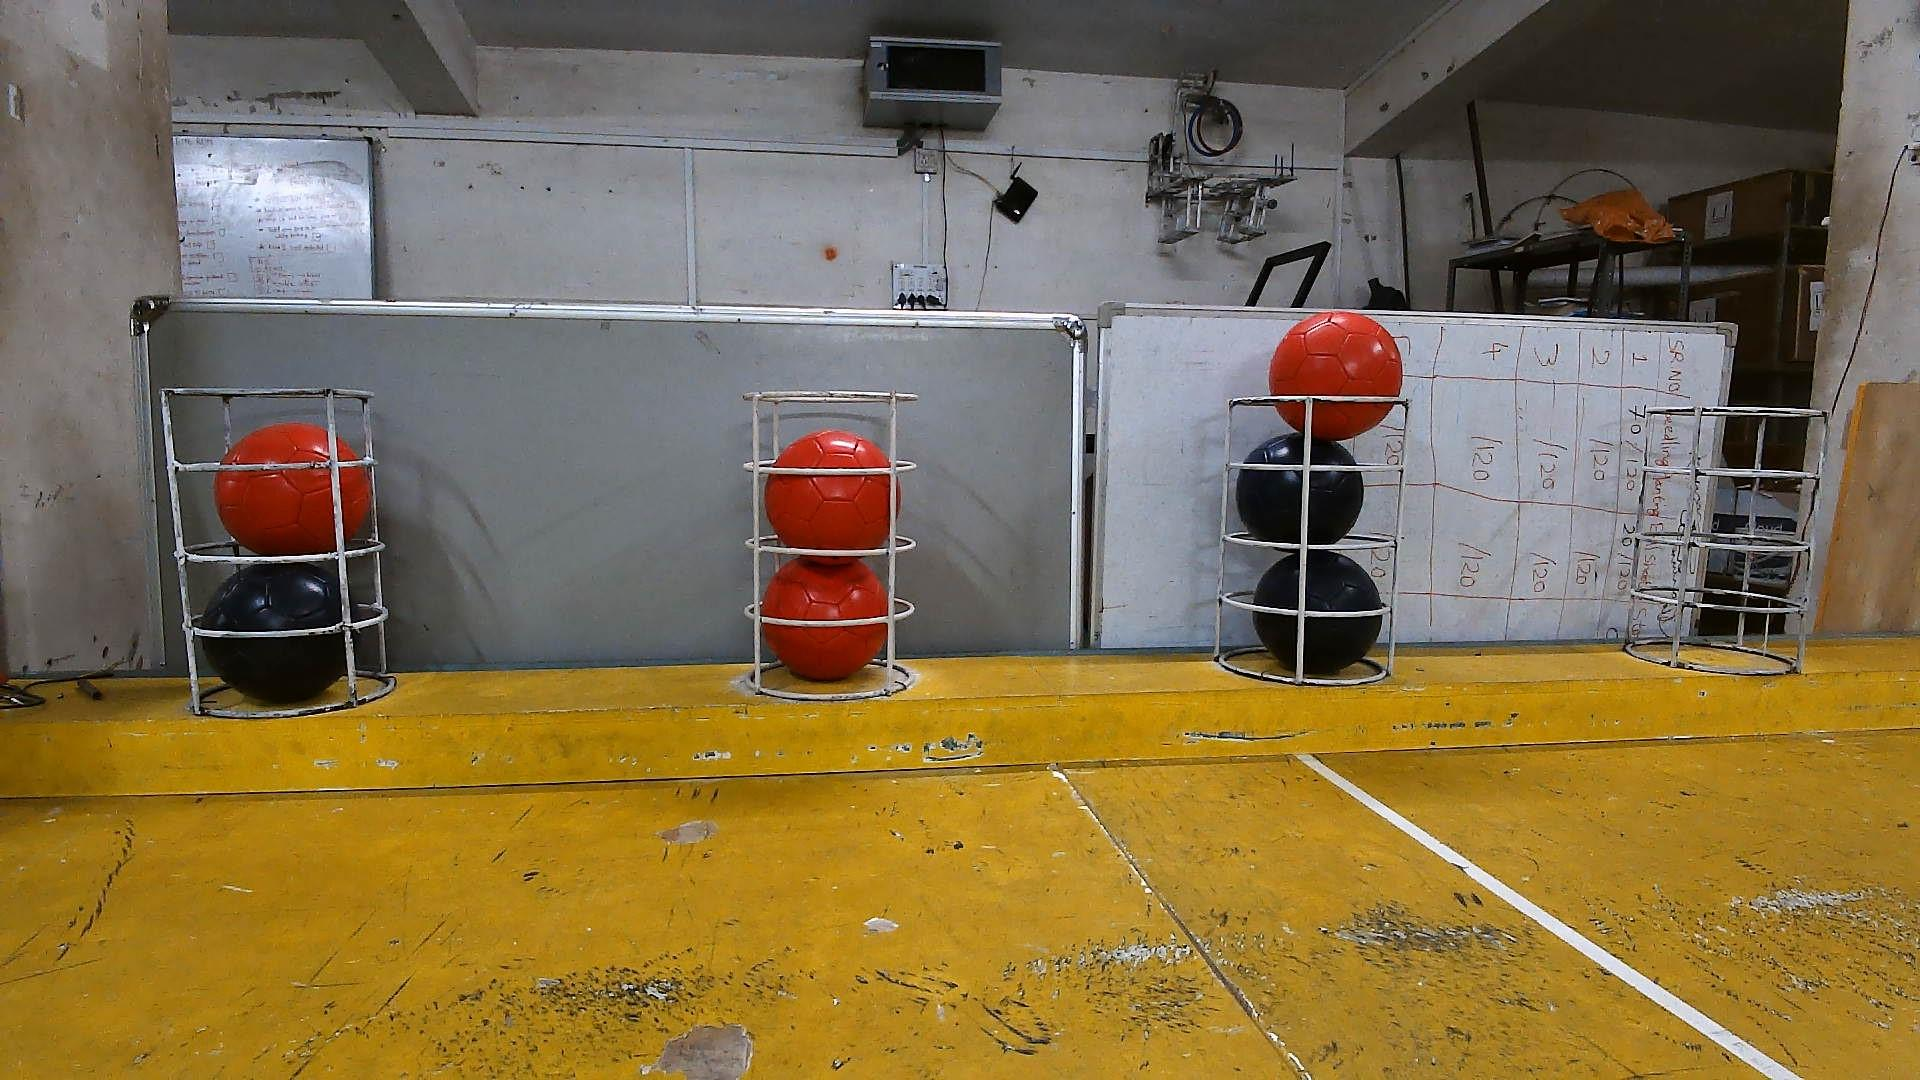dhoka: (197, 565, 358, 700), (1252, 548, 1384, 675), (1234, 431, 1365, 544)
laale: (214, 420, 371, 555), (1268, 311, 1402, 441), (761, 559, 889, 682), (765, 428, 889, 551)
